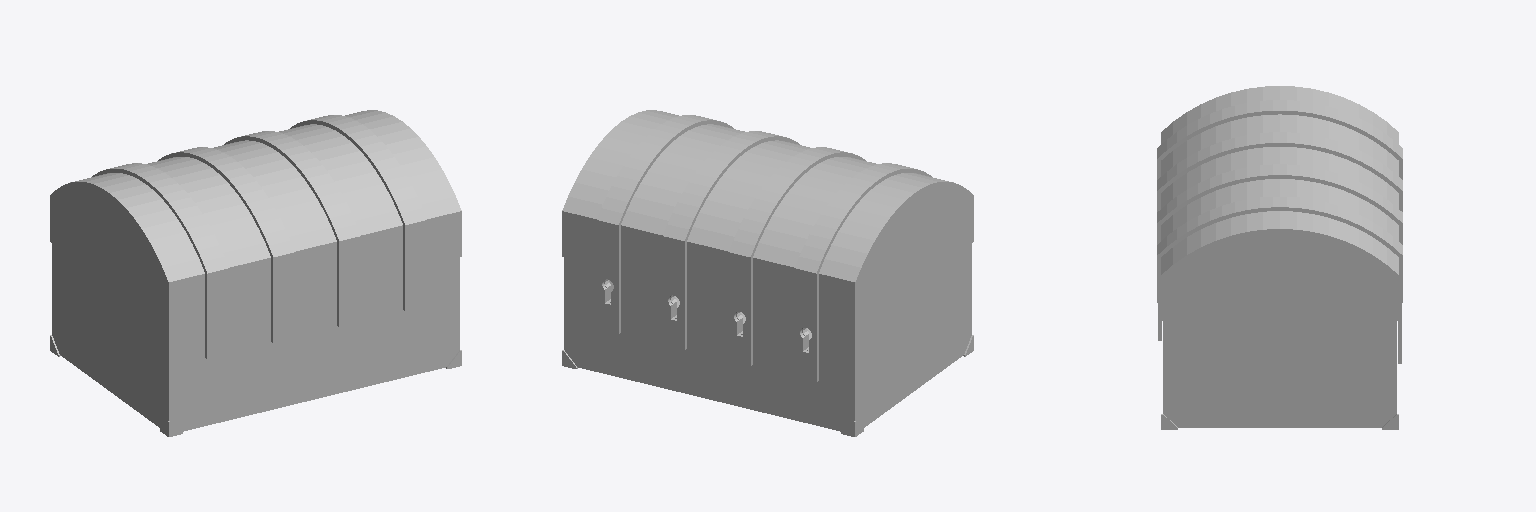
The model's file is Baule.obj.
The picture shows the model from 3 angles: view 1: azimuth 30°, elevation 25°; view 2: azimuth 150°, elevation 25°; view 3: azimuth 270°, elevation 25°; orthographic projection.
Visible parts, largest first — view 1: Baule_tot_Coperchio, Baule_tot_Base, Baule_tot_Barra_sopra_1, Baule_tot_Barra_sopra_2, Baule_tot_Barra_sopra_3, Baule_tot_Barra_sopra, Baule_tot_Barra_retro_1, Baule_tot_Barra_retro_3, Baule_tot_Barra_retro, Baule_tot_Barra_retro_2; view 2: Baule_tot_Coperchio, Baule_tot_Base, Baule_tot_Barra_sopra_1, Baule_tot_Barra_sopra_2, Baule_tot_Barra_sopra_3, Baule_tot_Barra_sopra, Baule_tot_Barra_fronte_1, Baule_tot_Barra_fronte_3, Baule_tot_Barra_fronte, Baule_tot_Barra_fronte_2; view 3: Baule_tot_Coperchio, Baule_tot_Base, Baule_tot_Barra_sopra, Baule_tot_Barra_sopra_2, Baule_tot_Barra_sopra_3, Baule_tot_Barra_sopra_1.
Boxes of the visible parts, x1,y1,x2,y2 form: Baule_tot_Coperchio: [50, 110, 461, 327]; Baule_tot_Base: [52, 244, 459, 431]; Baule_tot_Barra_sopra_1: [92, 163, 228, 320]; Baule_tot_Barra_sopra_2: [158, 147, 294, 304]; Baule_tot_Barra_sopra_3: [224, 131, 360, 288]; Baule_tot_Barra_sopra: [290, 115, 426, 272]; Baule_tot_Barra_retro_1: [271, 300, 294, 342]; Baule_tot_Barra_retro_3: [403, 268, 426, 310]; Baule_tot_Barra_retro: [205, 316, 228, 358]; Baule_tot_Barra_retro_2: [337, 284, 360, 326]; Baule_tot_Coperchio: [562, 110, 973, 327]; Baule_tot_Base: [564, 244, 971, 431]; Baule_tot_Barra_sopra_1: [795, 163, 931, 320]; Baule_tot_Barra_sopra_2: [729, 147, 865, 304]; Baule_tot_Barra_sopra_3: [663, 131, 799, 288]; Baule_tot_Barra_sopra: [597, 115, 733, 272]; Baule_tot_Barra_fronte_1: [729, 300, 752, 365]; Baule_tot_Barra_fronte_3: [597, 268, 620, 333]; Baule_tot_Barra_fronte: [663, 284, 686, 349]; Baule_tot_Barra_fronte_2: [795, 316, 818, 381]; Baule_tot_Coperchio: [1161, 86, 1398, 320]; Baule_tot_Base: [1163, 321, 1396, 427]; Baule_tot_Barra_sopra: [1157, 197, 1402, 302]; Baule_tot_Barra_sopra_2: [1157, 132, 1402, 211]; Baule_tot_Barra_sopra_3: [1157, 164, 1402, 244]; Baule_tot_Barra_sopra_1: [1157, 100, 1402, 179].
Bounding box in the file's own units: 20 × 13.34 × 14.5.